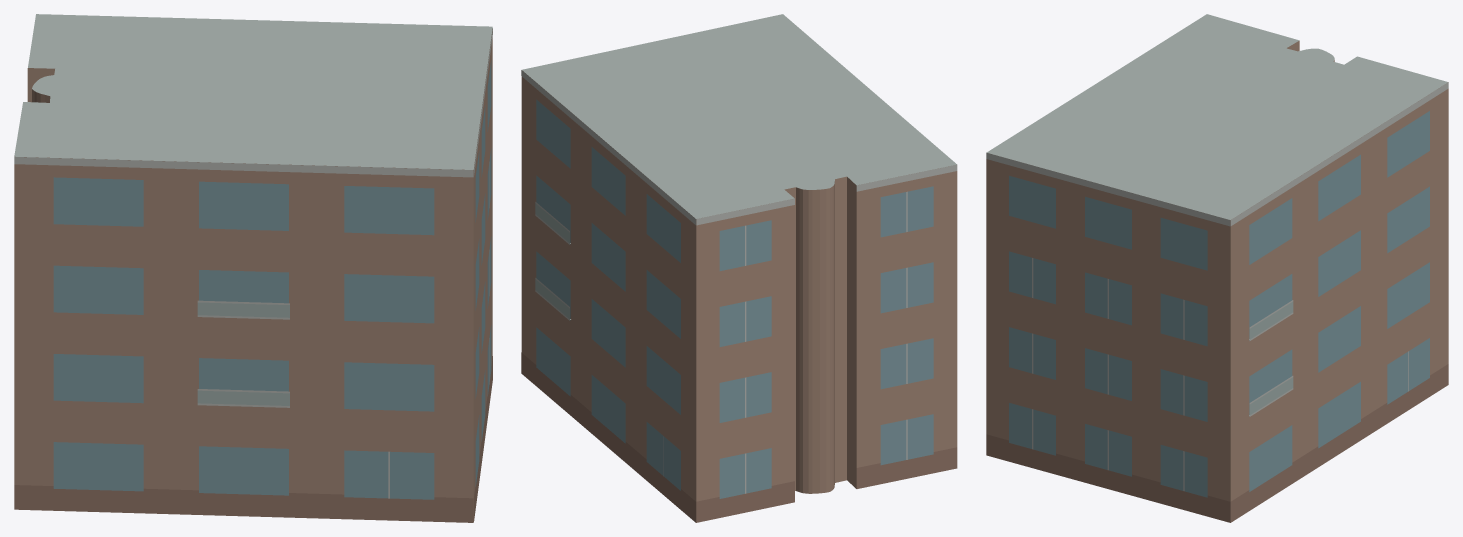
Rendered from survey-upis-32842974.glb.
The picture shows the model from 3 angles, left to right: view 1: azimuth 30°, elevation 25°; view 2: azimuth 150°, elevation 25°; view 3: azimuth 270°, elevation 25°; orthographic projection. The views are drawn at different scales.
Visible parts, largest first — view 1: survey-upis-32842974.tmp; view 2: survey-upis-32842974.tmp; view 3: survey-upis-32842974.tmp.
Part boxes in pixels (<box>): survey-upis-32842974.tmp: <box>14,14,492,522</box>; survey-upis-32842974.tmp: <box>521,14,957,522</box>; survey-upis-32842974.tmp: <box>986,14,1448,522</box>.
Size of the model in its own units: 16.95 by 11.6 by 16.06.
